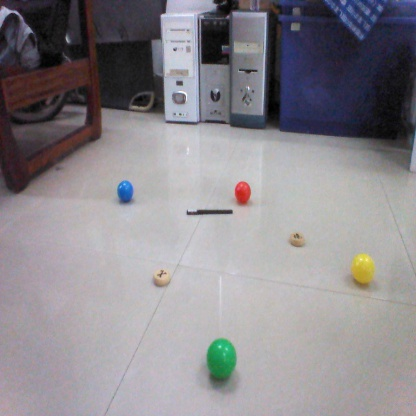ball: (203, 336, 237, 381), (351, 253, 375, 285), (115, 179, 138, 202), (234, 181, 253, 203)
chess: (153, 268, 171, 287), (288, 229, 303, 245)
pen: (184, 207, 233, 214)
